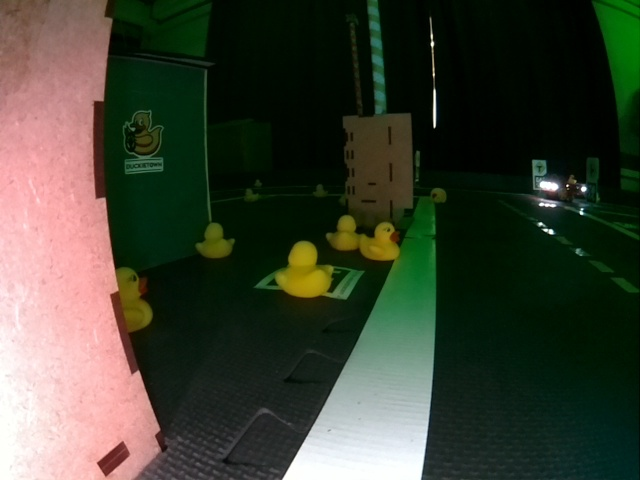Duckie: (276, 241, 328, 294), (114, 267, 154, 334), (360, 222, 400, 260), (198, 223, 236, 257), (326, 215, 360, 246), (431, 188, 447, 205)
Duckiebot: (540, 177, 588, 201)
QR code: (256, 261, 364, 298)
